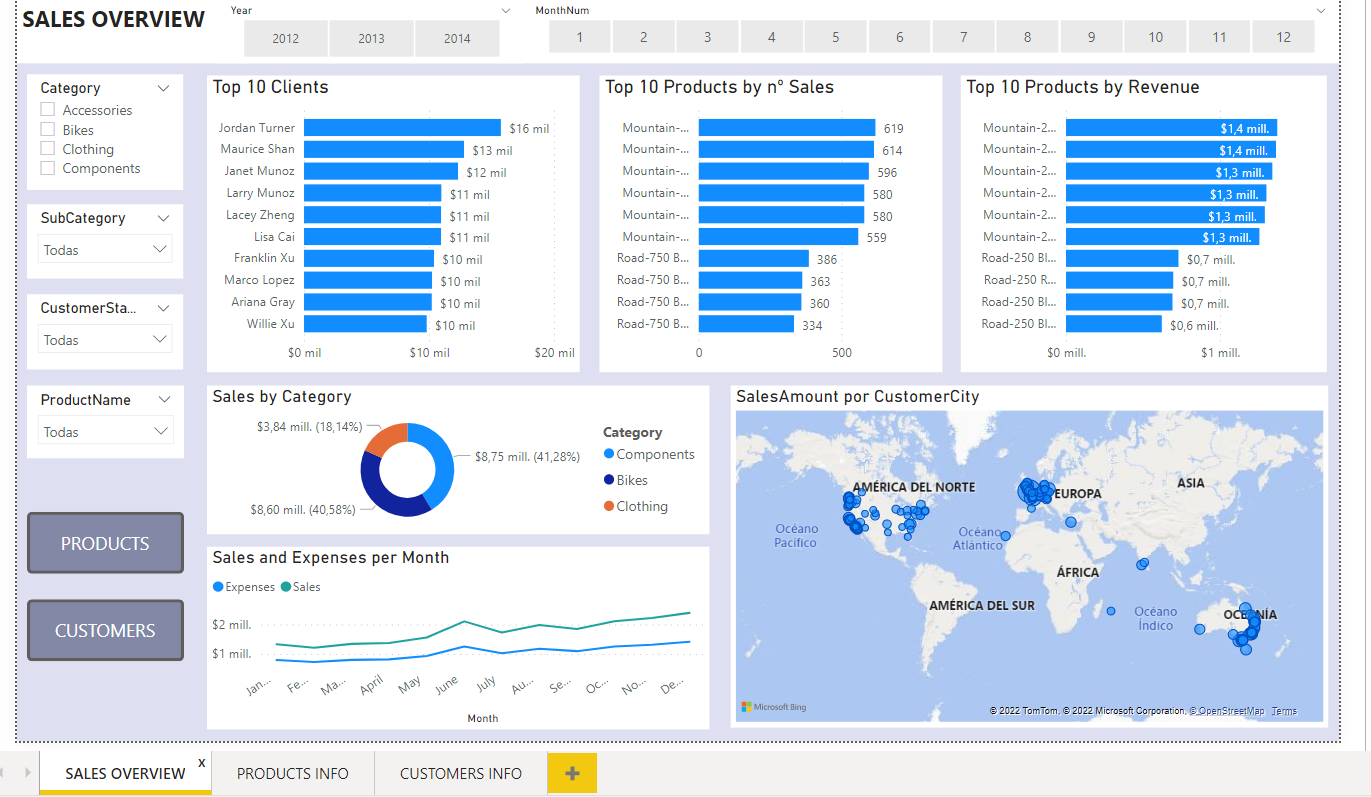

Layout of this report page (visuals, bound fields, positions):
{"tool":"powerbi","page":{"name":"SALES OVERVIEW","canvas":[1280,720],"ordinal":0},"visuals":[{"type":"textbox","box":[0,0,1280,63.4],"z":0},{"type":"barChart","title":"Top 10 Clients","fields":{"Y":["Sum(Sales_Table.SalesAmount)"],"Category":["Customer_Table.FullName"]},"box":[184.1,74.6,360.7,287.3],"z":1000},{"type":"barChart","title":"Top 10 Products by Revenue","fields":{"Y":["Sum(Sales_Table.SalesAmount)"],"Category":["Product_Table.ProductName"]},"box":[913,74.6,354.5,287.3],"z":2000},{"type":"map","fields":{"Size":["Sum(Sales_Table.SalesAmount)"],"Category":["Customer_Table.CustomerCity"]},"box":[690.4,375.7,578.4,330.9],"z":3000},{"type":"lineChart","title":"Sales and Expenses per Month","fields":{"Y":["Medidas.Expenses","Medidas.Sales"],"Category":["Date_Table.Date.Variation.Date Hierarchy.Month"]},"box":[184.1,531.2,486.4,176.6],"z":4000},{"type":"slicer","fields":{"Values":["Product_Table.Category"]},"box":[10.1,74.3,151,112],"z":5000},{"type":"slicer","fields":{"Values":["Date_Table.Year"]},"box":[194.1,0,297.3,63.4],"z":6000},{"type":"slicer","fields":{"Values":["Date_Table.MonthNum"]},"box":[488.9,0,791.1,59.7],"z":7000},{"type":"slicer","fields":{"Values":["Product_Table.SubCategory"]},"box":[10.1,200.1,151,71.7],"z":8000},{"type":"slicer","fields":{"Values":["Customer_Table.CustomerState"]},"box":[10.1,287,151,73],"z":9000},{"type":"slicer","fields":{"Values":["Product_Table.ProductName"]},"box":[10.1,375.1,152.3,70.5],"z":10000},{"type":"actionButton","box":[10,497.6,151.8,60],"z":11000},{"type":"actionButton","box":[10,582.2,151.8,59.7],"z":12000},{"type":"barChart","title":"Top 10 Products by nº Sales","fields":{"Y":["Medidas.Medida"],"Category":["Product_Table.ProductName"]},"box":[563.5,74.6,332.1,287.3],"z":13000},{"type":"donutChart","title":"Sales by Category","fields":{"Y":["Sum(Sales_Table.SalesAmount)"],"Series":["Product_Table.Category"]},"box":[184.1,375.7,486.4,144.3],"z":14000}]}

Visuals, with their boxes on the page's 1280x720 design canvas (x1, y1, x2, y2). These are canvas units, not pixel positions in the 1371x797 screenshot, which may show the page scaled, cropped or inside an application window:
textbox: bbox=(0, 0, 1280, 63)
"Top 10 Clients" barChart: bbox=(184, 75, 545, 362)
"Top 10 Products by Revenue" barChart: bbox=(913, 75, 1268, 362)
map - Sum(Sales_Table.SalesAmount) x Customer_Table.CustomerCity: bbox=(690, 376, 1269, 707)
"Sales and Expenses per Month" lineChart: bbox=(184, 531, 670, 708)
slicer - Product_Table.Category: bbox=(10, 74, 161, 186)
slicer - Date_Table.Year: bbox=(194, 0, 491, 63)
slicer - Date_Table.MonthNum: bbox=(489, 0, 1280, 60)
slicer - Product_Table.SubCategory: bbox=(10, 200, 161, 272)
slicer - Customer_Table.CustomerState: bbox=(10, 287, 161, 360)
slicer - Product_Table.ProductName: bbox=(10, 375, 162, 446)
actionButton: bbox=(10, 498, 162, 558)
actionButton: bbox=(10, 582, 162, 642)
"Top 10 Products by nº Sales" barChart: bbox=(564, 75, 896, 362)
"Sales by Category" donutChart: bbox=(184, 376, 670, 520)
